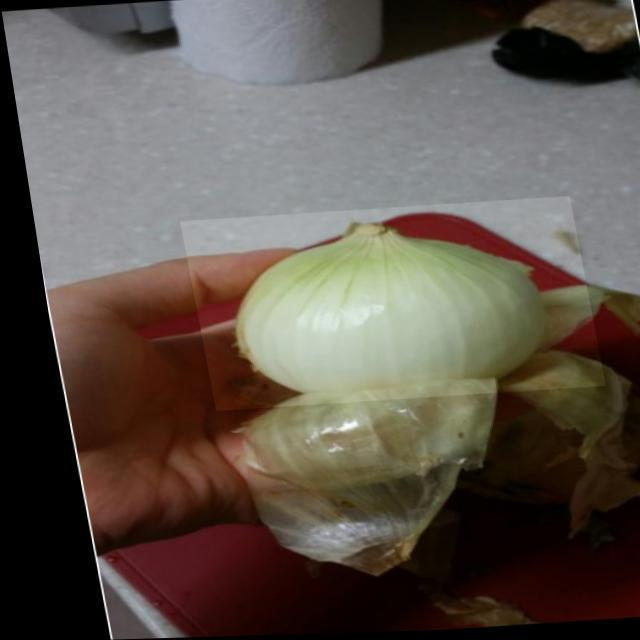Onion: (171, 199, 594, 412)
